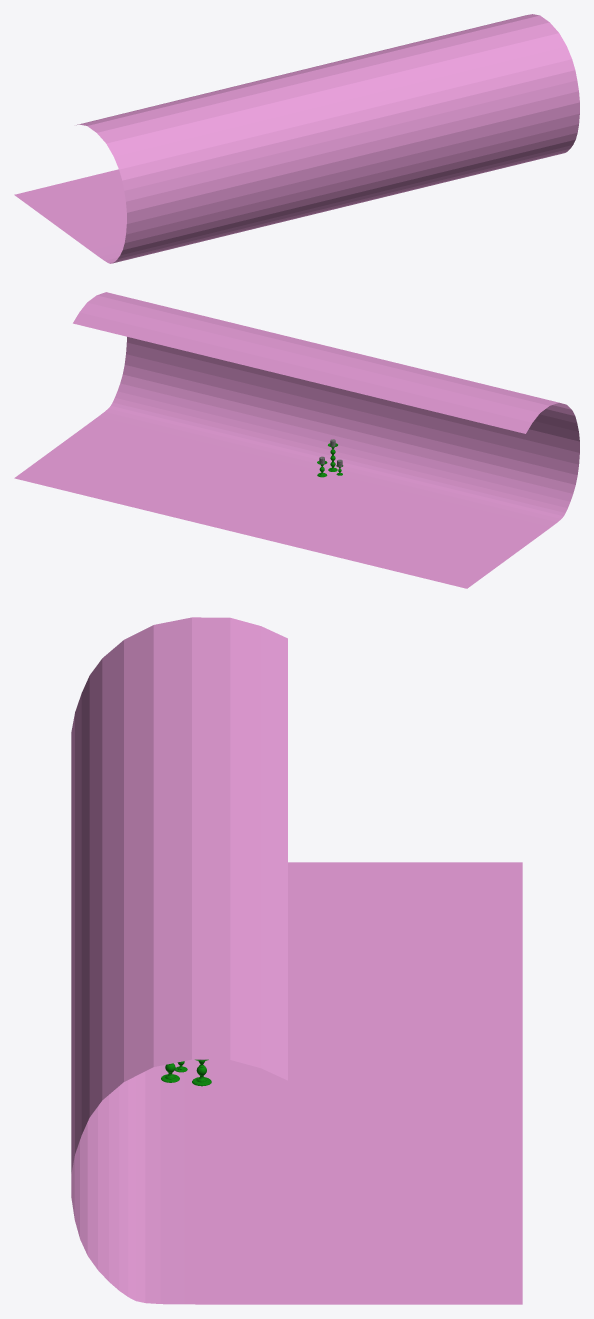
The model's file is candlesObj.obj.
The picture shows the model from 3 angles, top to bottom: view 1: azimuth 30°, elevation 25°; view 2: azimuth 150°, elevation 25°; view 3: azimuth 270°, elevation 25°; orthographic projection. The views are drawn at different scales.
Parts seen in each view (by area): view 1: Fob; view 2: Fob; view 3: Fob.
Boxes of the visible parts, bbox=[...] form: Fob: bbox=[14, 14, 579, 263]; Fob: bbox=[14, 292, 579, 588]; Fob: bbox=[71, 617, 522, 1304].
Bounding box in the file's own units: 14811 × 3825 × 6392.
